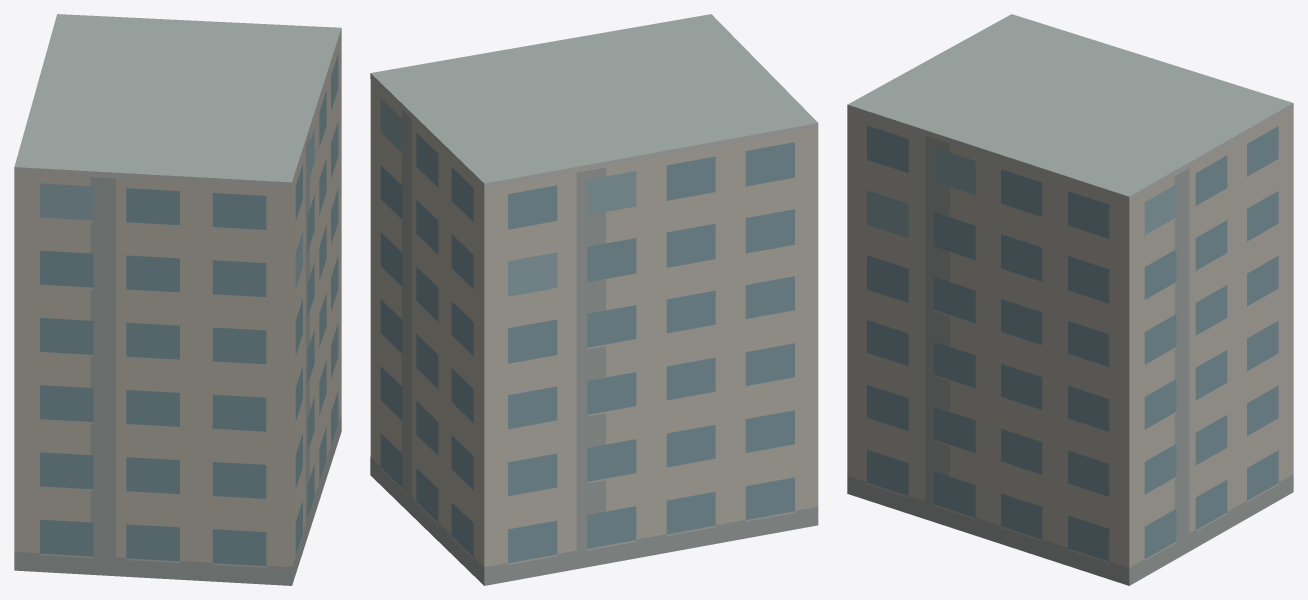
File: survey-upis-32574555.glb
3 views of the same model, side by side, from view 1: azimuth 30°, elevation 25°; view 2: azimuth 150°, elevation 25°; view 3: azimuth 270°, elevation 25° (orthographic). The views are drawn at different scales.
Visible parts, largest first — view 1: survey-upis-32574555.tmp; view 2: survey-upis-32574555.tmp; view 3: survey-upis-32574555.tmp.
Boxes of the visible parts, x1,y1,x2,y2 form: survey-upis-32574555.tmp: [14, 14, 341, 585]; survey-upis-32574555.tmp: [370, 14, 818, 585]; survey-upis-32574555.tmp: [847, 14, 1293, 585].
Bounding box in the file's own units: 16.88 × 16.75 × 17.41.
